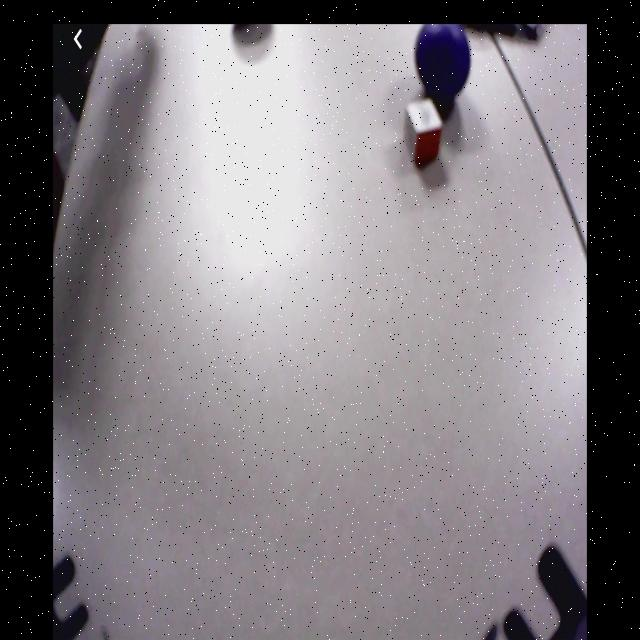ball: (417, 25, 470, 103)
